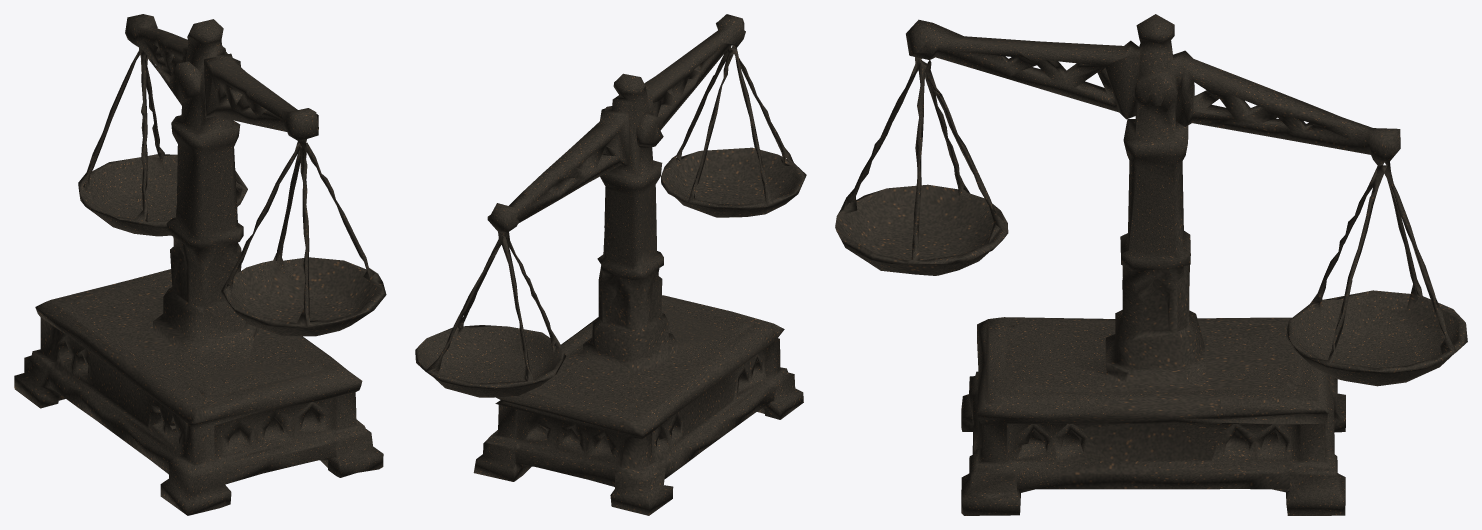
File: post_office_balance_scale.glb
3 renders of one model, left to right at view 1: azimuth 30°, elevation 25°; view 2: azimuth 150°, elevation 25°; view 3: azimuth 270°, elevation 25°, orthographic. The views are drawn at different scales.
Parts seen in each view (by area): view 1: tripo_node_65794acd-6bf1-483c-9172-1859b12b1dd5; view 2: tripo_node_65794acd-6bf1-483c-9172-1859b12b1dd5; view 3: tripo_node_65794acd-6bf1-483c-9172-1859b12b1dd5.
Boxes of the visible parts, box(x1,y1,x2,y2) form: tripo_node_65794acd-6bf1-483c-9172-1859b12b1dd5: box(14, 14, 386, 515); tripo_node_65794acd-6bf1-483c-9172-1859b12b1dd5: box(415, 14, 806, 515); tripo_node_65794acd-6bf1-483c-9172-1859b12b1dd5: box(835, 14, 1467, 515).
Bounding box in the file's own units: 0.4768 × 0.7829 × 1.
1 material, 1 textured.
